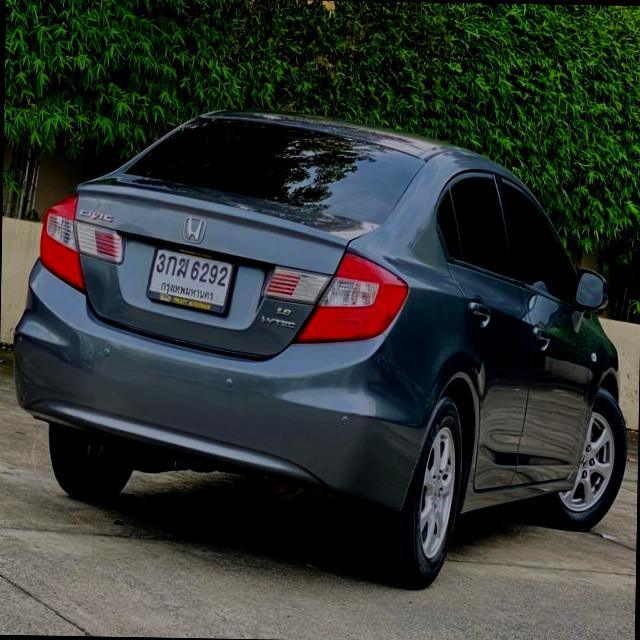license_plate: (142, 235, 243, 322)
